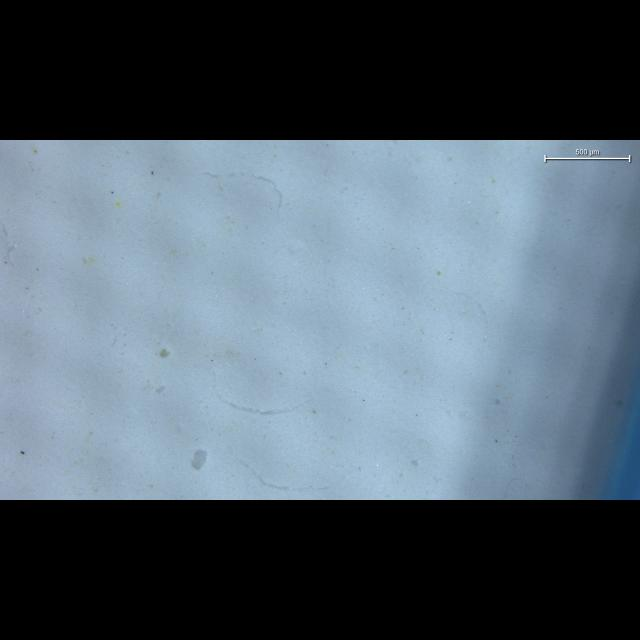Fibre: (204, 172, 282, 218), (237, 458, 332, 491), (217, 394, 311, 415)
Fragment: (191, 449, 207, 470)
